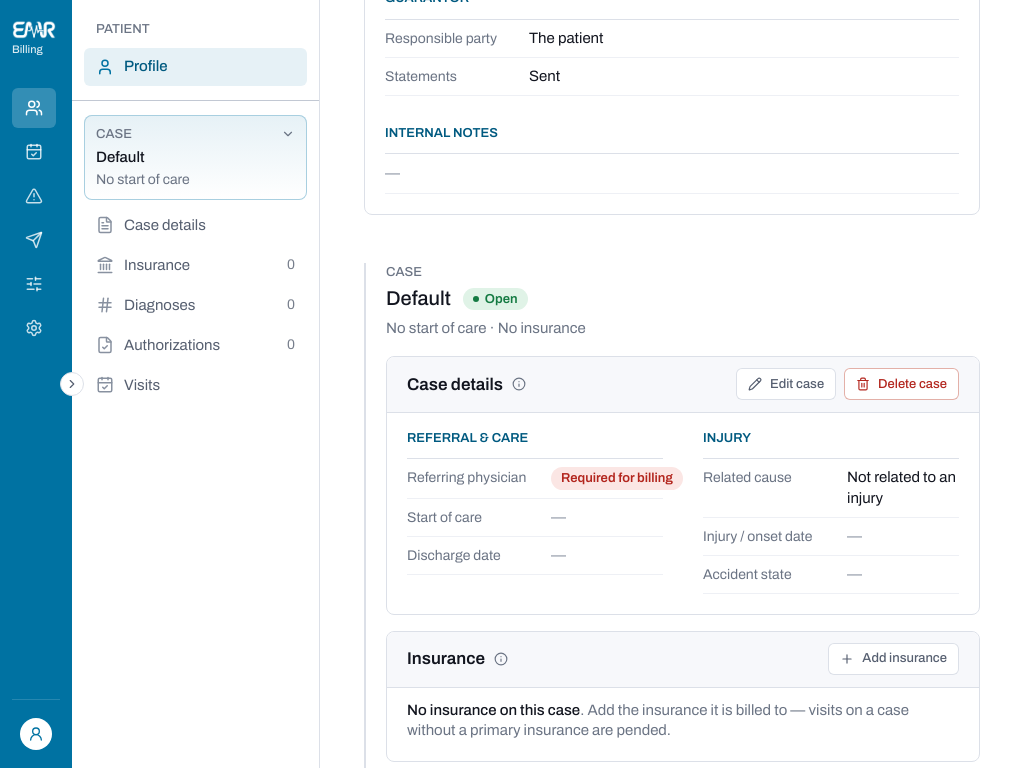
Scenario: the patient chart — header and Profile › says what to do first when the practice has no referring physicians
(page scrolled)
Click the button "Edit case".
click(786, 384)  # box [736, 368, 836, 400]
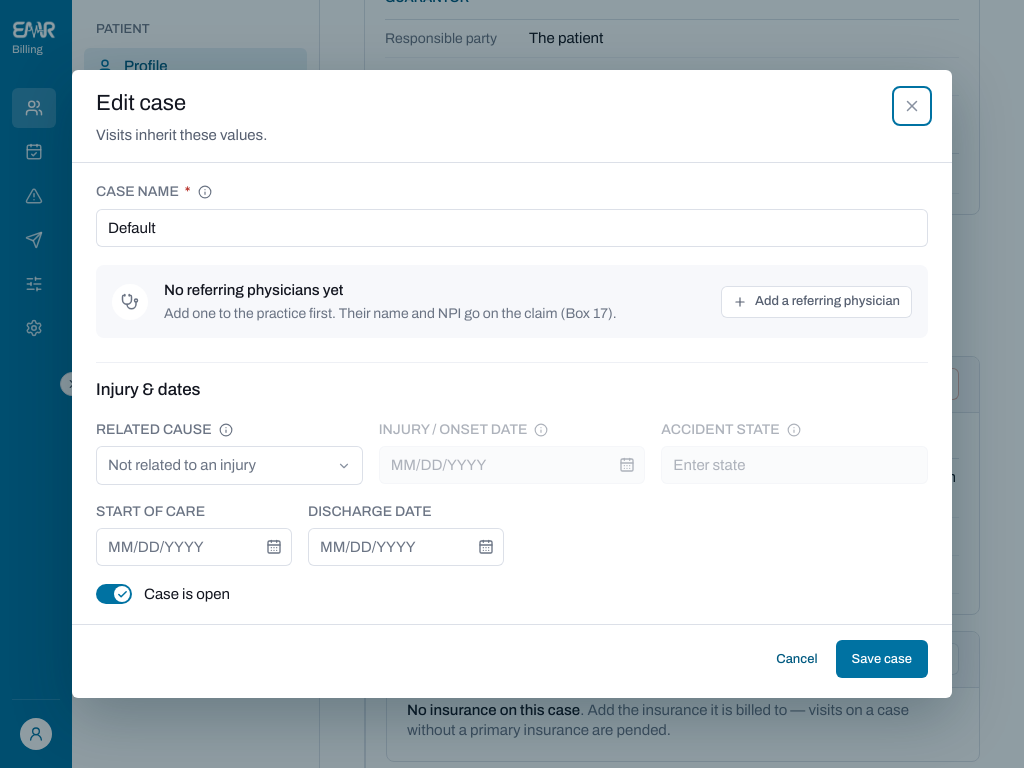
Now the text "No referring physicians yet" is shown, box [164, 282, 343, 298]
